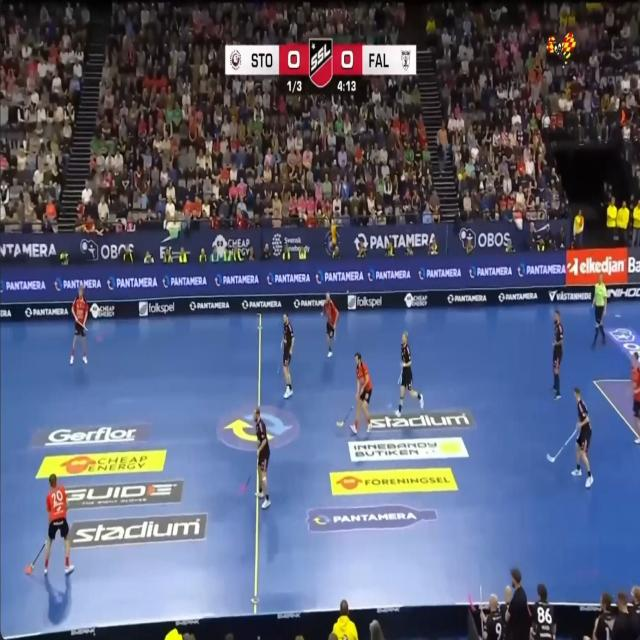player: (44, 474, 74, 574), (395, 331, 423, 417), (571, 387, 593, 487), (350, 352, 372, 433), (253, 407, 270, 509), (70, 287, 89, 363), (531, 583, 555, 639), (479, 593, 506, 639), (322, 292, 339, 357), (281, 314, 294, 399), (592, 592, 615, 639), (592, 274, 606, 346), (630, 352, 640, 444), (553, 309, 563, 399)
stick: (546, 431, 576, 461), (25, 540, 45, 574), (337, 406, 353, 426), (240, 474, 251, 494), (467, 591, 475, 612), (479, 583, 482, 610), (277, 361, 281, 374), (280, 341, 283, 352), (398, 374, 401, 384), (83, 325, 87, 331)
